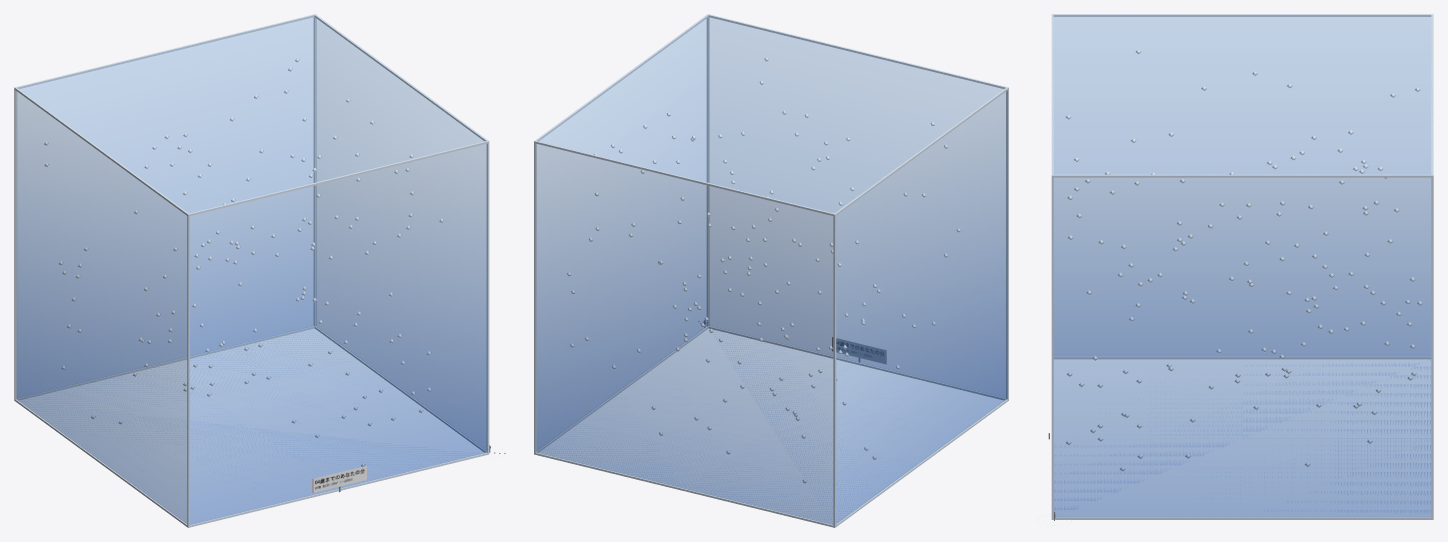
Rendered from cube_life_64.glb.
3 views of the same model, side by side, from view 1: azimuth 30°, elevation 25°; view 2: azimuth 150°, elevation 25°; view 3: azimuth 270°, elevation 25° (orthographic). The views are drawn at different scales.
Visible parts, largest first — view 1: co2, edge, dots, label; view 2: co2, edge, dots, label; view 3: co2, edge, dots.
Part boxes in pixels (x1,y1,x2,y2): co2: (16,15,486,524); edge: (14,14,489,527); dots: (44,58,443,466); label: (312,465,366,492); co2: (536,15,1006,524); edge: (534,14,1008,527); dots: (567,57,960,483); label: (832,337,886,363); co2: (1053,15,1432,516); edge: (1051,14,1433,519); dots: (1065,49,1422,471).
Bounding box in the file's own units: 69.76 × 65.99 × 68.86.
Materials: 8 (3 with a texture image).
